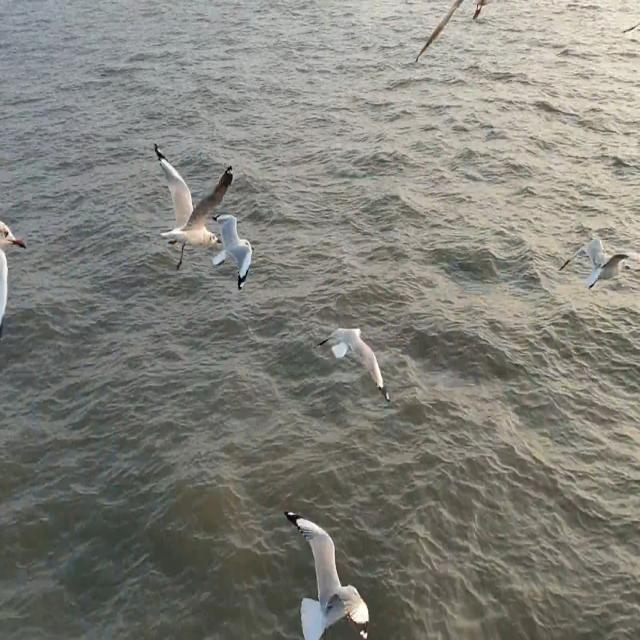bird: (282, 505, 374, 640), (153, 139, 233, 267), (404, 0, 496, 77), (316, 314, 391, 406), (560, 224, 636, 293), (0, 213, 27, 338), (214, 209, 258, 285)
